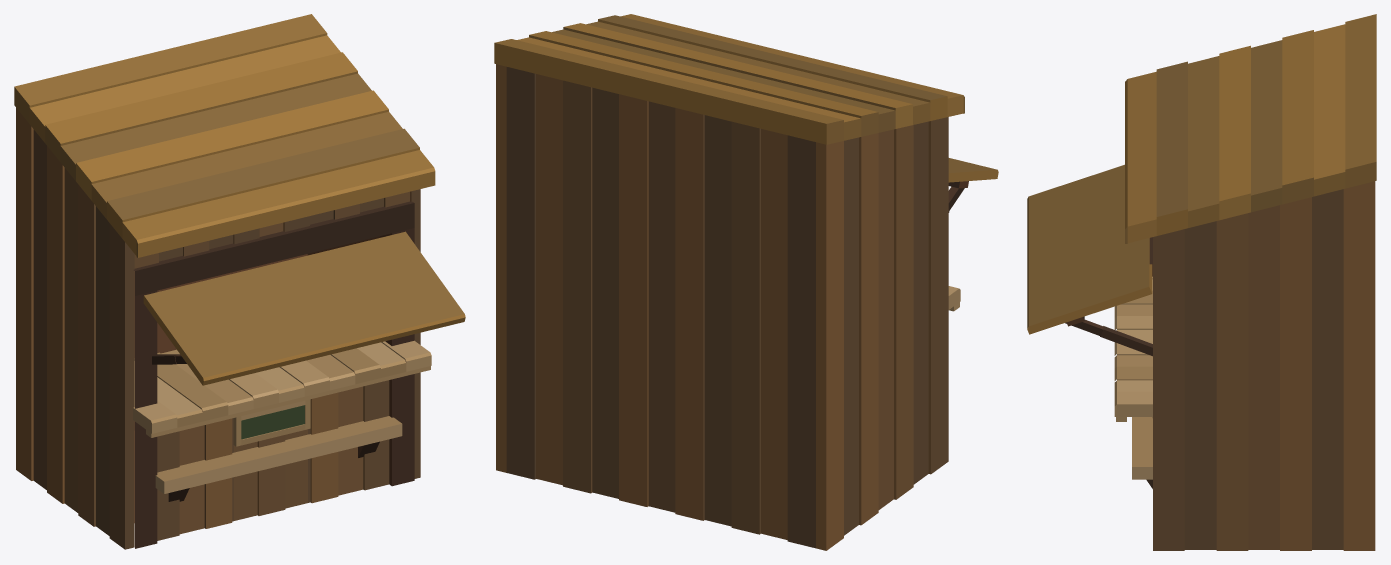
File: roadside-farm-stand-e218ca.glb
3 renders of one model, left to right at view 1: azimuth 30°, elevation 25°; view 2: azimuth 150°, elevation 25°; view 3: azimuth 270°, elevation 25°, orthographic. The views are drawn at different scales.
Parts seen in each view (by area): view 1: stand-shell, shutter-leaf; view 2: stand-shell, shutter-leaf; view 3: stand-shell, shutter-leaf, stay-r-arm.
Boxes of the visible parts, x1,y1,x2,y2 form: stand-shell: (14,14,435,549); shutter-leaf: (143,231,465,385); stand-shell: (494,14,964,550); shutter-leaf: (948,158,998,188); stand-shell: (1114,14,1376,550); shutter-leaf: (1027,164,1152,334); stay-r-arm: (1100,326,1152,356).
Size of the model in its own units: 2 by 2.46 by 2.
